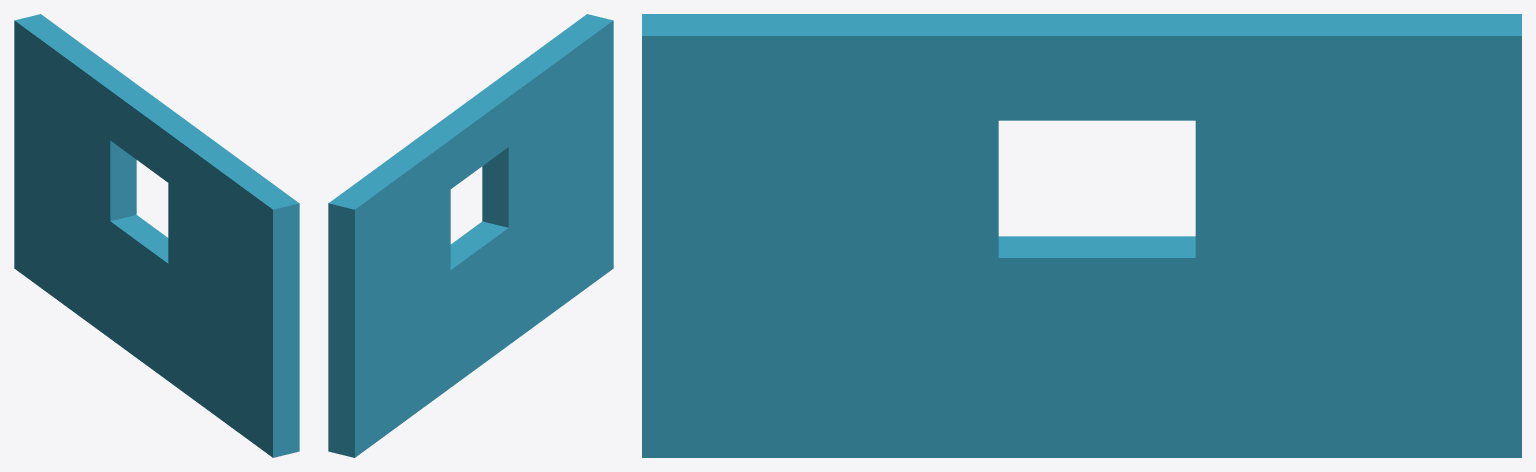
The model's file is square-wall 1.fbx.
3 views of the same model, side by side, from view 1: azimuth 30°, elevation 25°; view 2: azimuth 150°, elevation 25°; view 3: azimuth 270°, elevation 25° (orthographic). The views are drawn at different scales.
Visible parts, largest first — view 1: Cube; view 2: Cube; view 3: Cube.
Boxes of the visible parts, left/top/right/bottom form: Cube: left=14, top=14, right=299, bottom=457; Cube: left=328, top=14, right=613, bottom=457; Cube: left=642, top=14, right=1521, bottom=457.
Bounding box in the file's own units: 100 × 900 × 1700.
